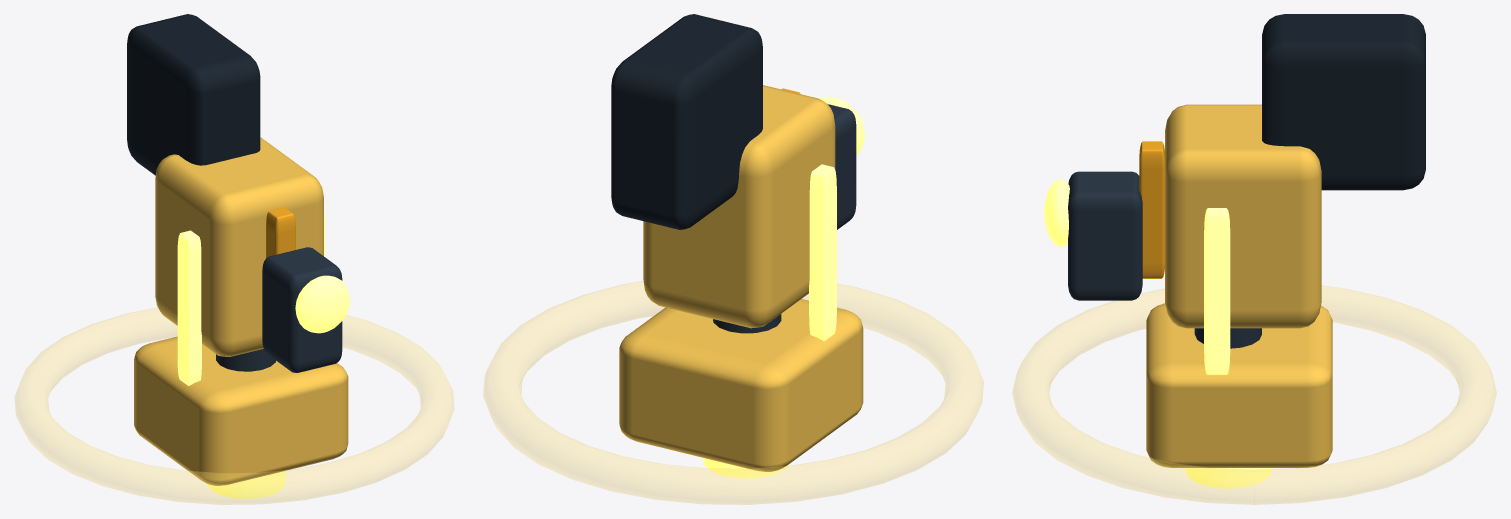
File: pistol-10.glb
The picture shows the model from 3 angles, left to right: view 1: azimuth 30°, elevation 25°; view 2: azimuth 150°, elevation 25°; view 3: azimuth 270°, elevation 25°; orthographic projection. The views are drawn at different scales.
Bounding box in the file's own units: 0.7475 × 0.7532 × 0.7475.
